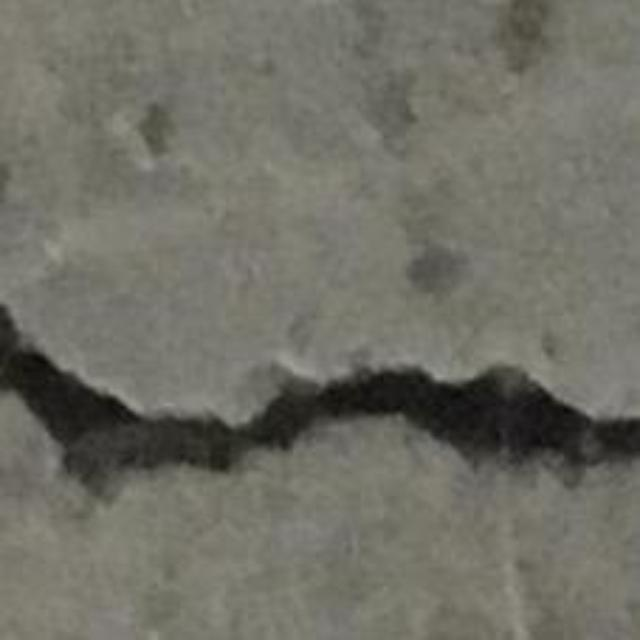crack: (0, 308, 639, 487)
